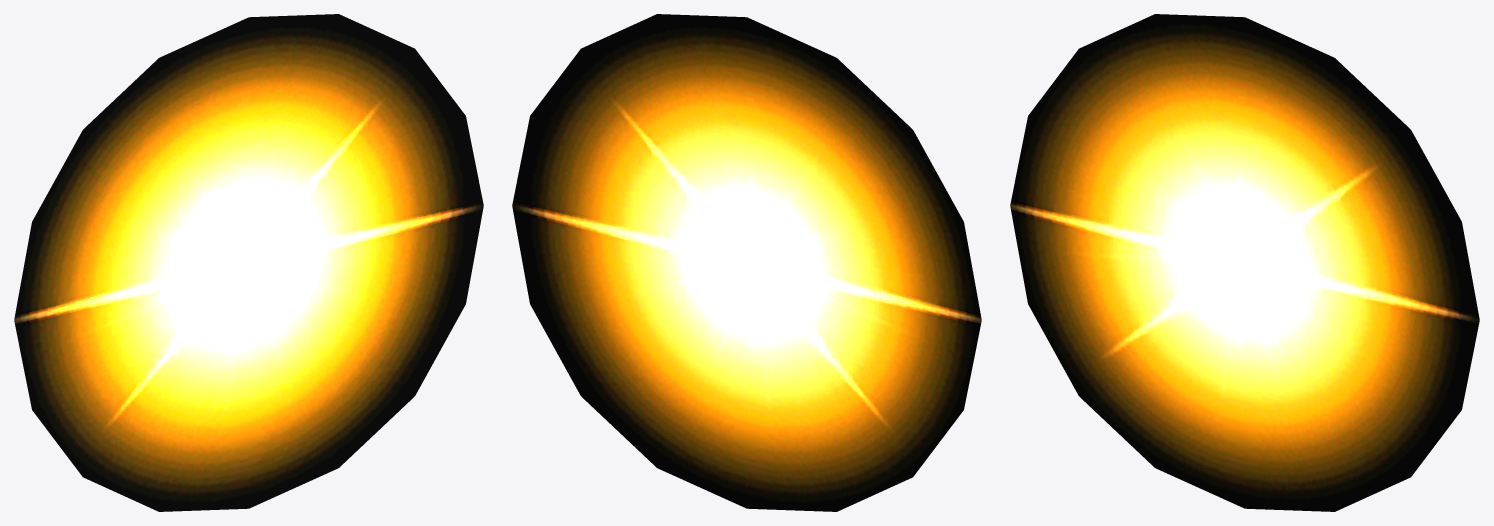
Rendered from explosion.glb.
The picture shows the model from 3 angles, left to right: view 1: azimuth 30°, elevation 25°; view 2: azimuth 150°, elevation 25°; view 3: azimuth 330°, elevation 25°; orthographic projection.
Visible parts, largest first — view 1: GetHeroes_Glow_GetHeroes_Add_0_4; view 2: GetHeroes_Glow_GetHeroes_Add_0_4; view 3: GetHeroes_Glow_GetHeroes_Add_0_4.
Boxes of the visible parts, box(x1,y1,x2,y2) form: GetHeroes_Glow_GetHeroes_Add_0_4: box(14, 14, 483, 511); GetHeroes_Glow_GetHeroes_Add_0_4: box(512, 14, 981, 511); GetHeroes_Glow_GetHeroes_Add_0_4: box(1010, 14, 1479, 511).
Size of the model in its own units: 0.0279 by 0.0279 by 1.22e-16.
1 material, 1 textured.
